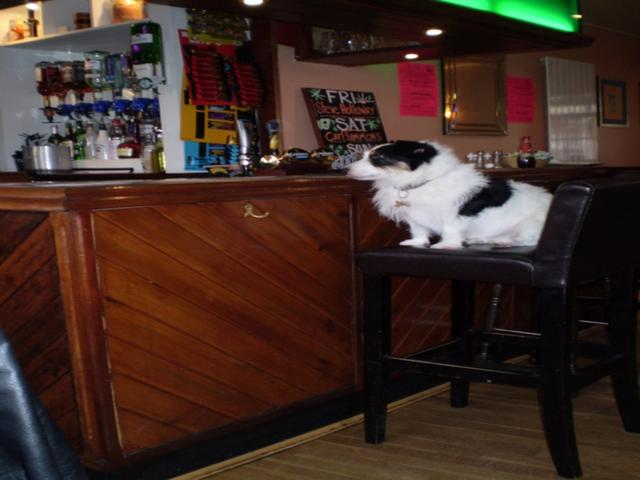dog: (330, 123, 576, 256)
